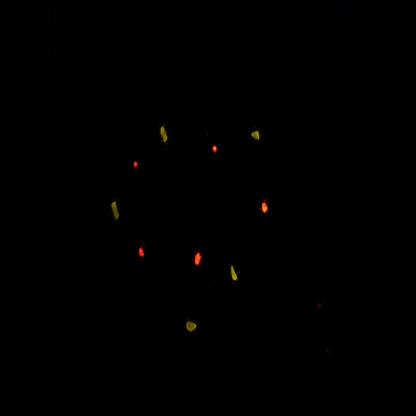PP: (245, 111, 270, 159), (179, 304, 204, 348), (102, 192, 127, 235), (156, 115, 177, 156), (226, 254, 246, 291)
PVC: (255, 188, 277, 228), (126, 147, 148, 184), (206, 134, 227, 169), (191, 240, 209, 278), (134, 239, 151, 269)
